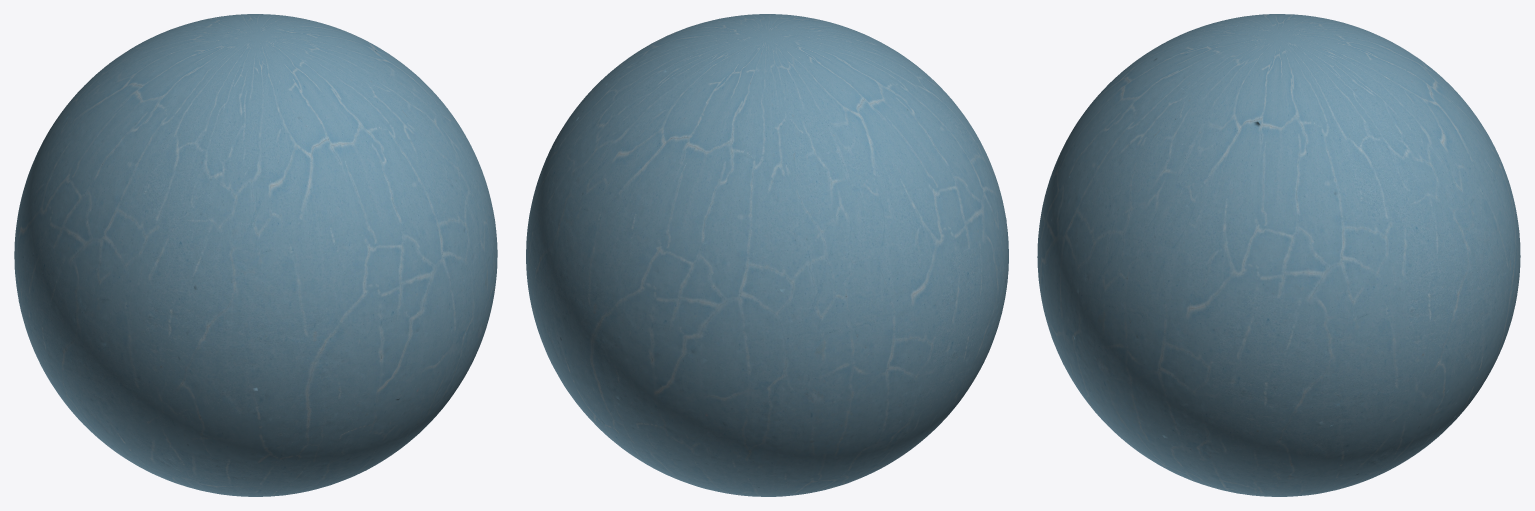
The model's file is blue_plaster_wall_1k.gltf.
3 views of the same model, side by side, from view 1: azimuth 30°, elevation 25°; view 2: azimuth 150°, elevation 25°; view 3: azimuth 270°, elevation 25° (orthographic).
Parts seen in each view (by area): view 1: sphere_gltf; view 2: sphere_gltf; view 3: sphere_gltf.
Part boxes in pixels (x1,y1,x2,y2): sphere_gltf: (14, 14, 497, 496); sphere_gltf: (526, 14, 1008, 496); sphere_gltf: (1037, 14, 1520, 496).
Bounding box in the file's own units: 2 × 2 × 2.
Materials: 1 (1 with a texture image).
